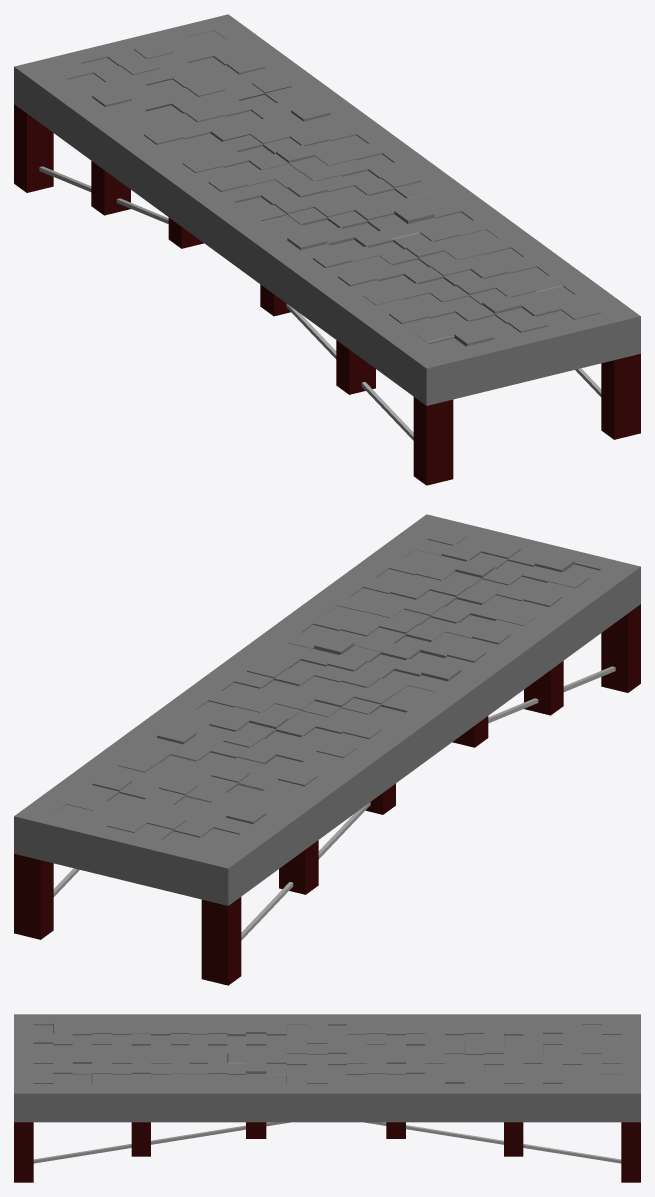
File: Brige3.gltf
The picture shows the model from 3 angles, top to bottom: view 1: azimuth 30°, elevation 25°; view 2: azimuth 150°, elevation 25°; view 3: azimuth 270°, elevation 25°; orthographic projection. The views are drawn at different scales.
Parts seen in each view (by area): view 1: 立方体.003; view 2: 立方体.003; view 3: 立方体.003.
Part boxes in pixels (x1,y1,x2,y2): 立方体.003: [14, 14, 640, 485]; 立方体.003: [14, 514, 640, 985]; 立方体.003: [14, 1014, 640, 1182].
Size of the model in its own units: 60 by 32.22 by 200.
Materials: 1 (1 with a texture image).
